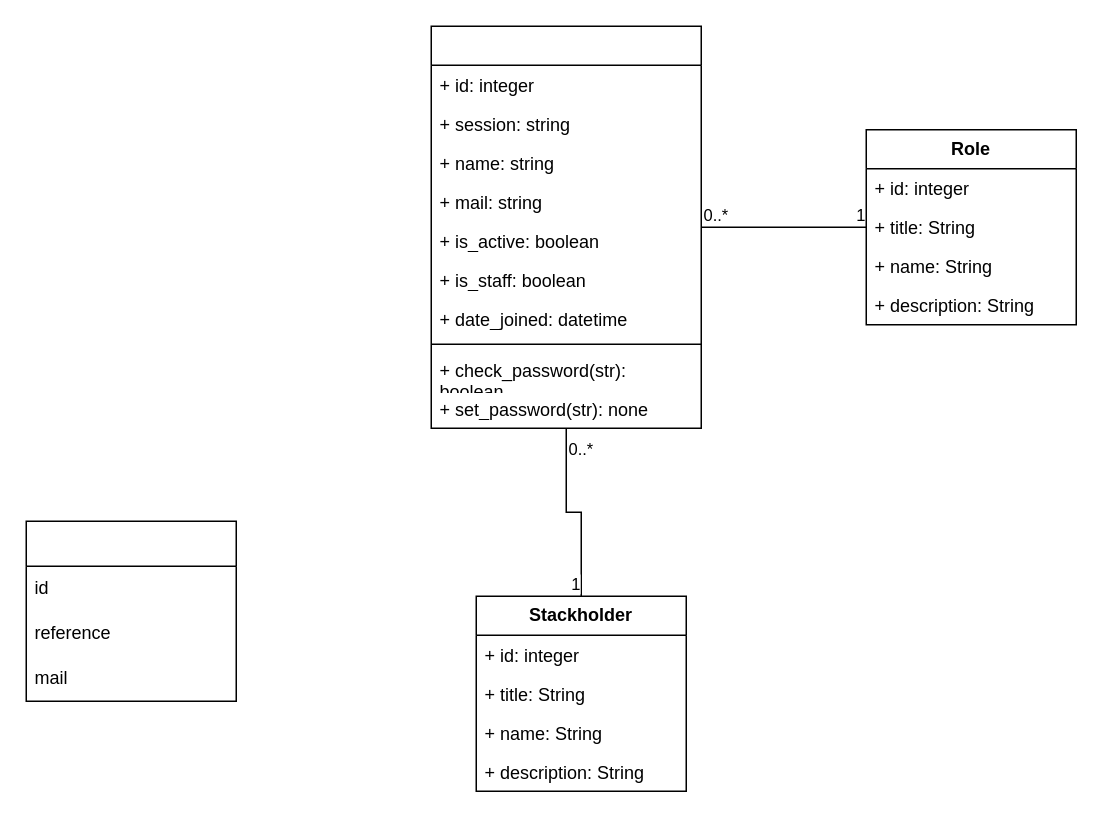
Image size: 1103x822. Some labels were removed from this diagram. Here are the shapes that lost their labels. From the top down, the box of each, then its label:
(430, 25, 701, 428): User
(25, 520, 236, 701): RISK identification
